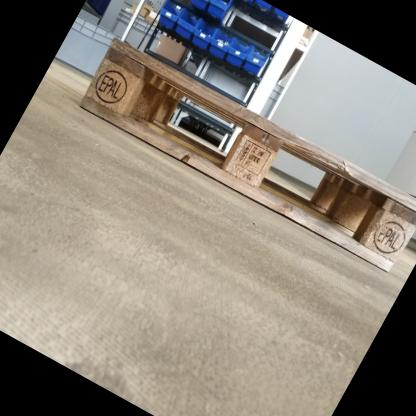BoxFace: (72, 31, 416, 279)
